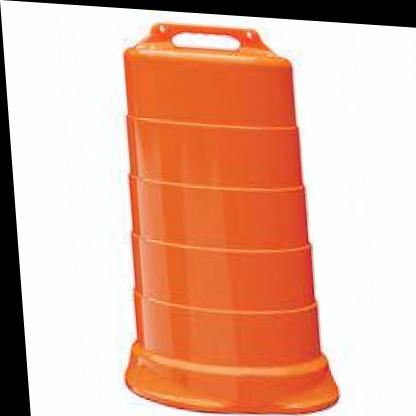obstacle: (76, 10, 336, 383)
